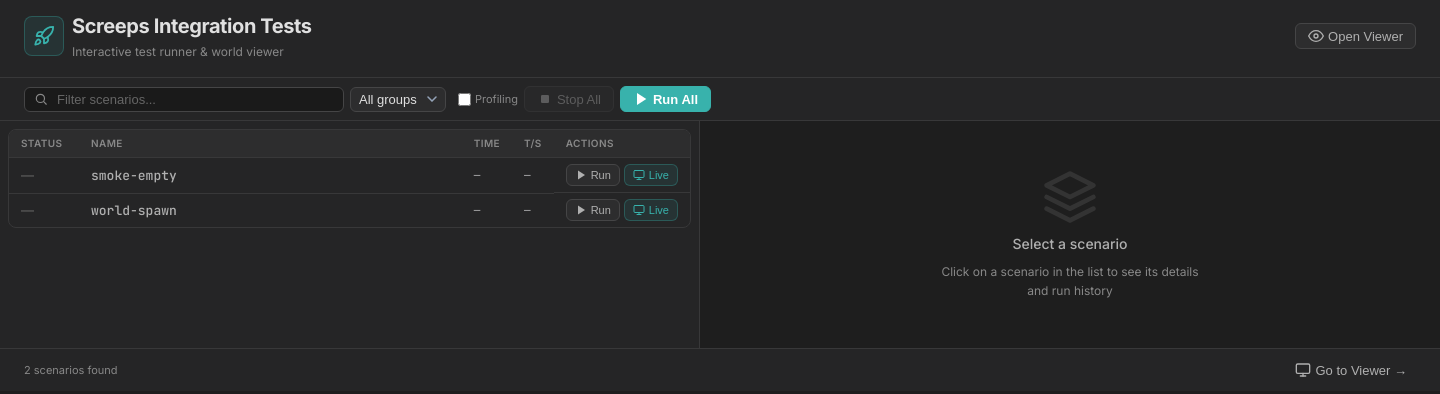
Test: ScenarioManager honest statuses (server-authoritative running) › Run One keeps the scenario pending after postRun (no optimistic running)
This screenshot has width=1440, height=394.
Expected: the text "smoke-empty" is shown, [79, 158, 462, 193]
Click the button titled "Run in batch mode" in the row of "smoke-empty" at (593, 175), box [566, 164, 620, 186]
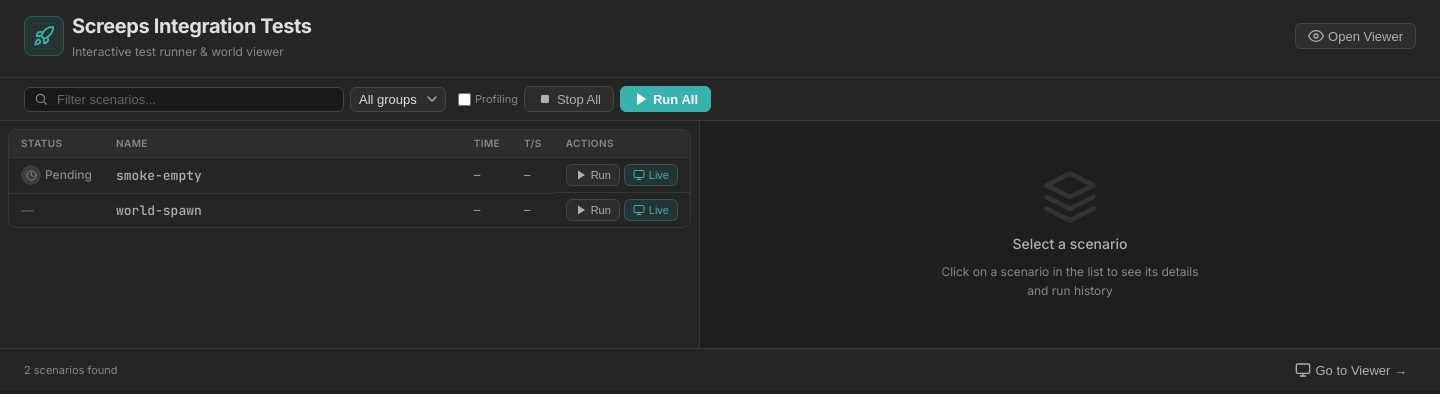
Expected: the text "Pending" is shown once, [45, 166, 92, 184]
